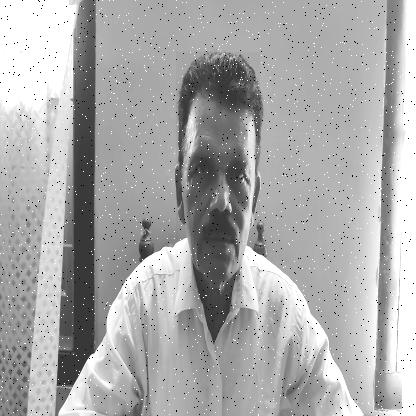Normal: (176, 52, 260, 291)
